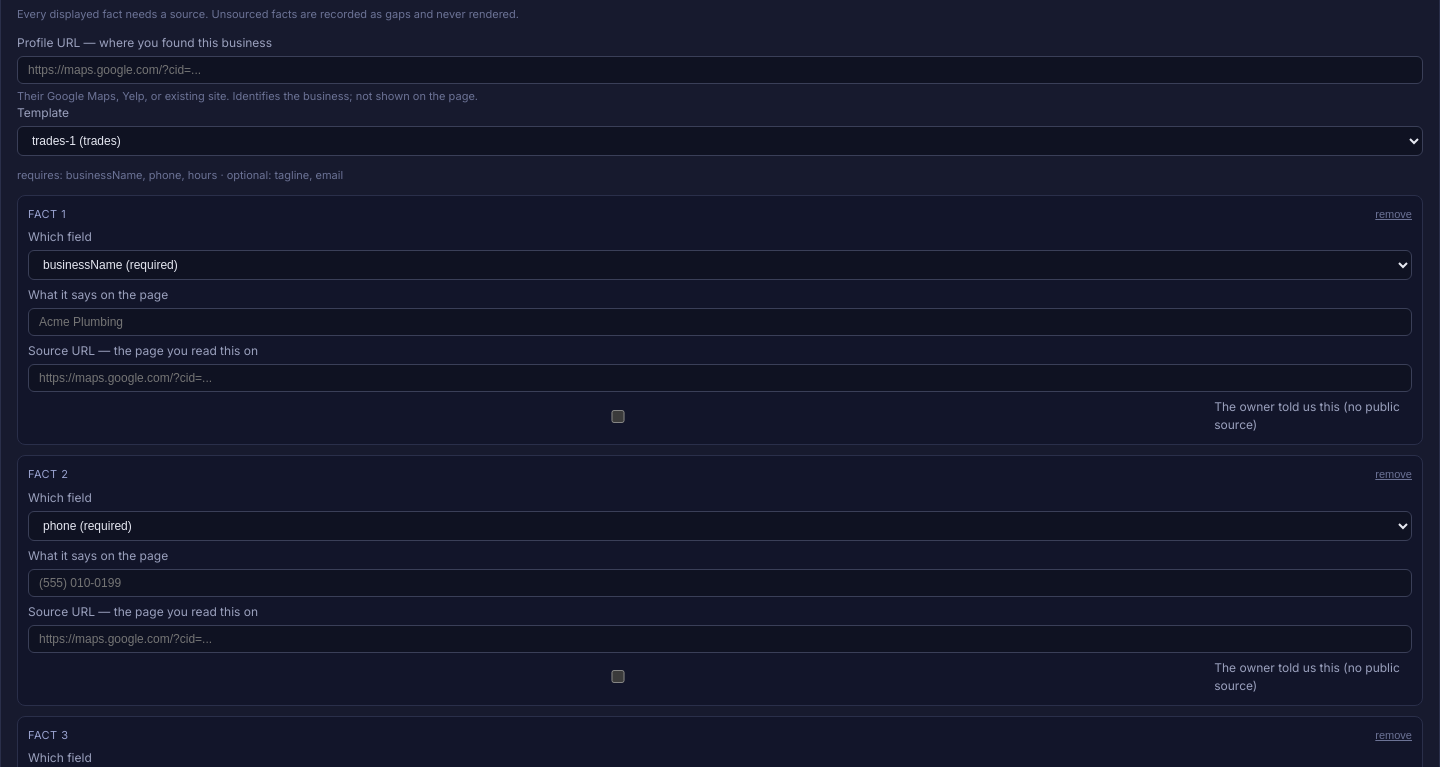
Test: site builder › reports blocked facts returned by the API
This screenshot has width=1440, height=767.
Type "https://maps.example/acme" into the field with test id "profile-url".
click(720, 70); type("https://maps.example/acme")  # box [17,56,1423,84]
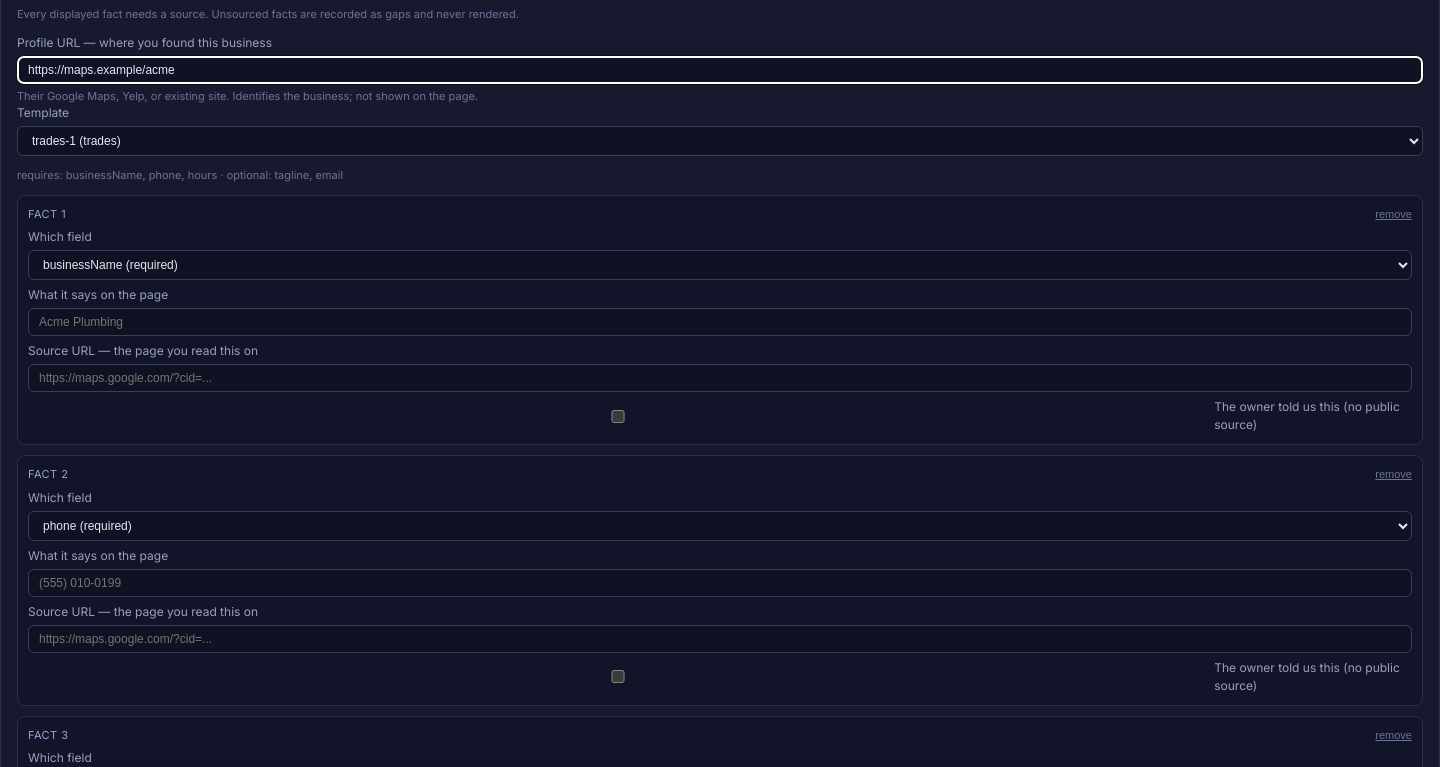
Type "Acme" into the 1st field labelled "What it says on the page".
click(720, 322); type("Acme")  # box [28,308,1412,336]
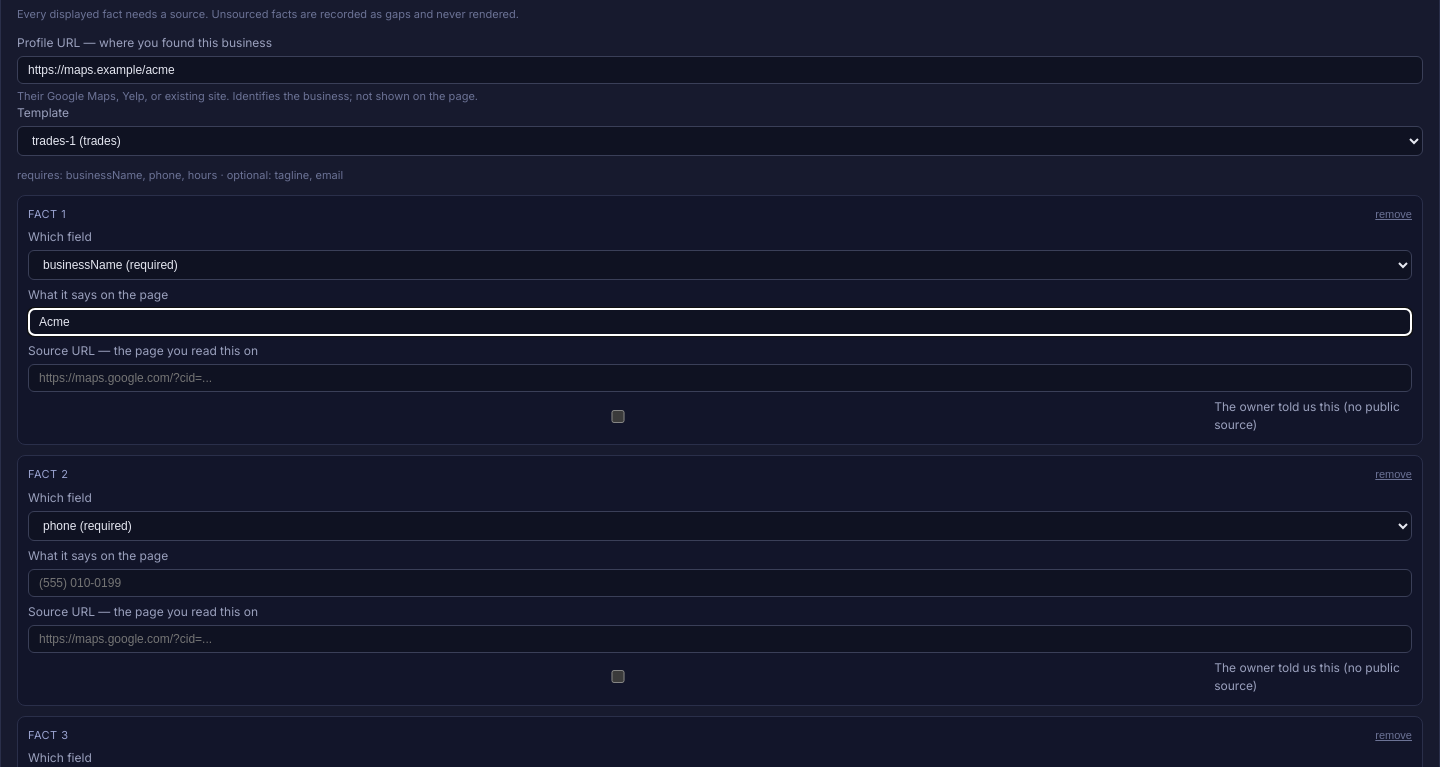
Type "https://maps.example/acme" into the field named "fact 1 source".
click(720, 378); type("https://maps.example/acme")  # box [28,364,1412,392]
(page scrolled)
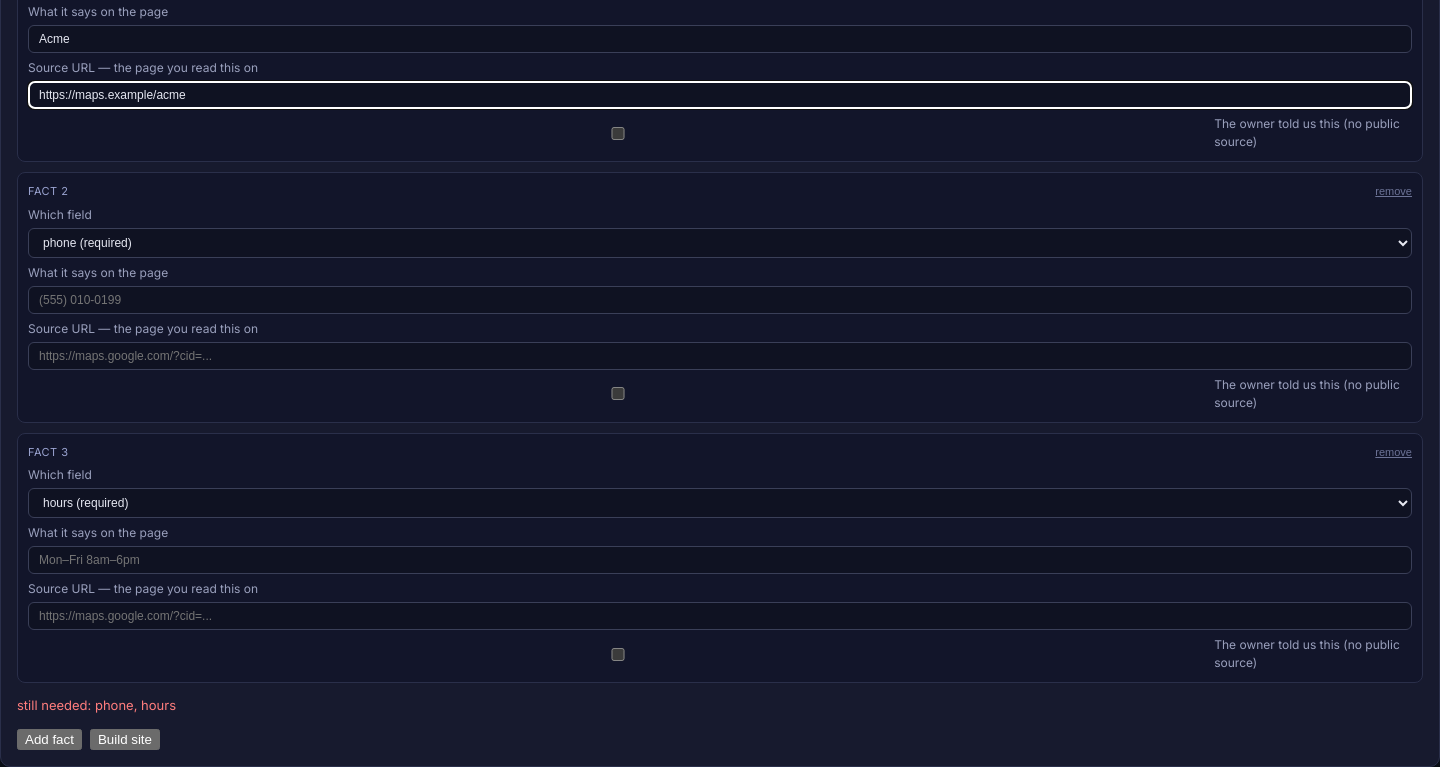
Click the button with test id "build-site".
click(125, 739)  # box [90,728,160,750]
(page scrolled)
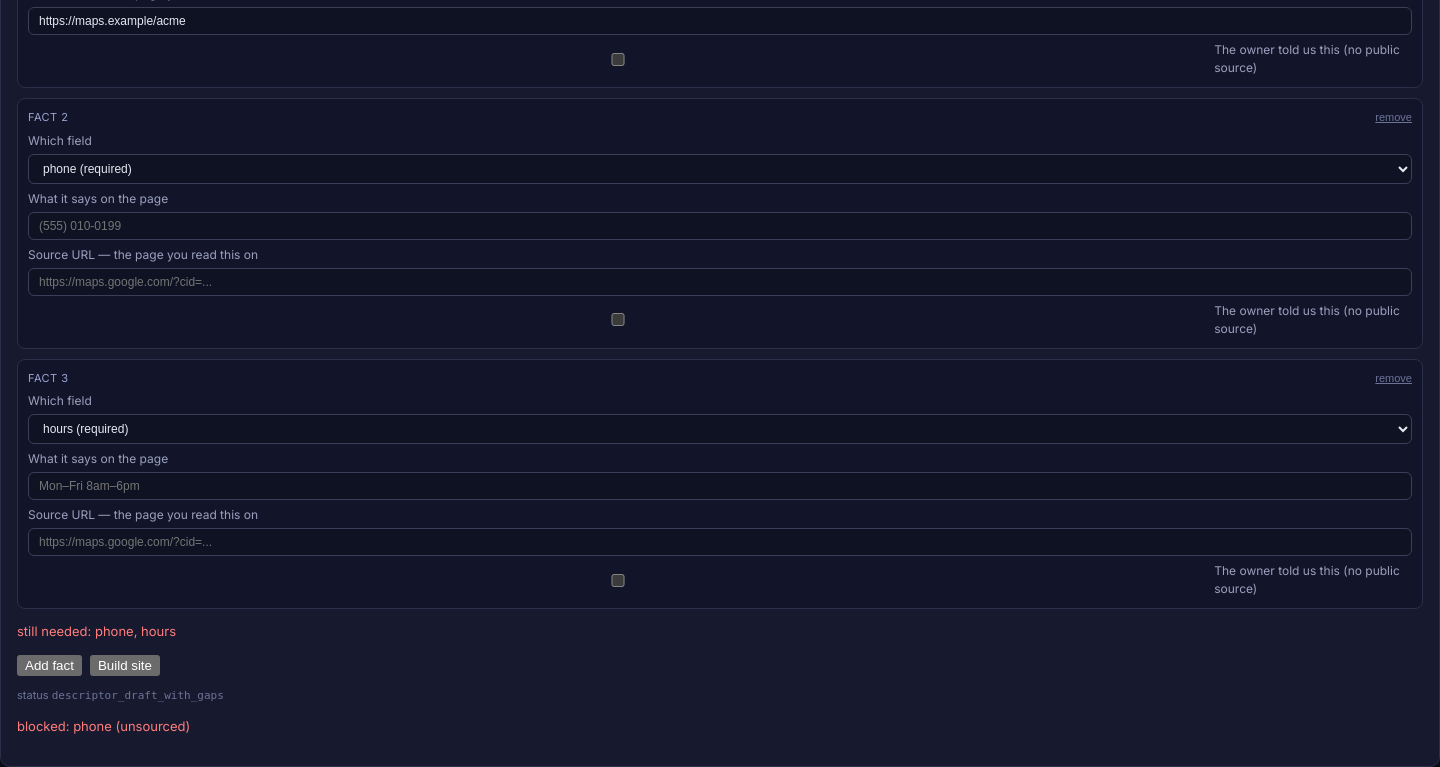
Now the text with test id "build-blocked" shows "phone (unsourced)", box [73,718,190,734]
